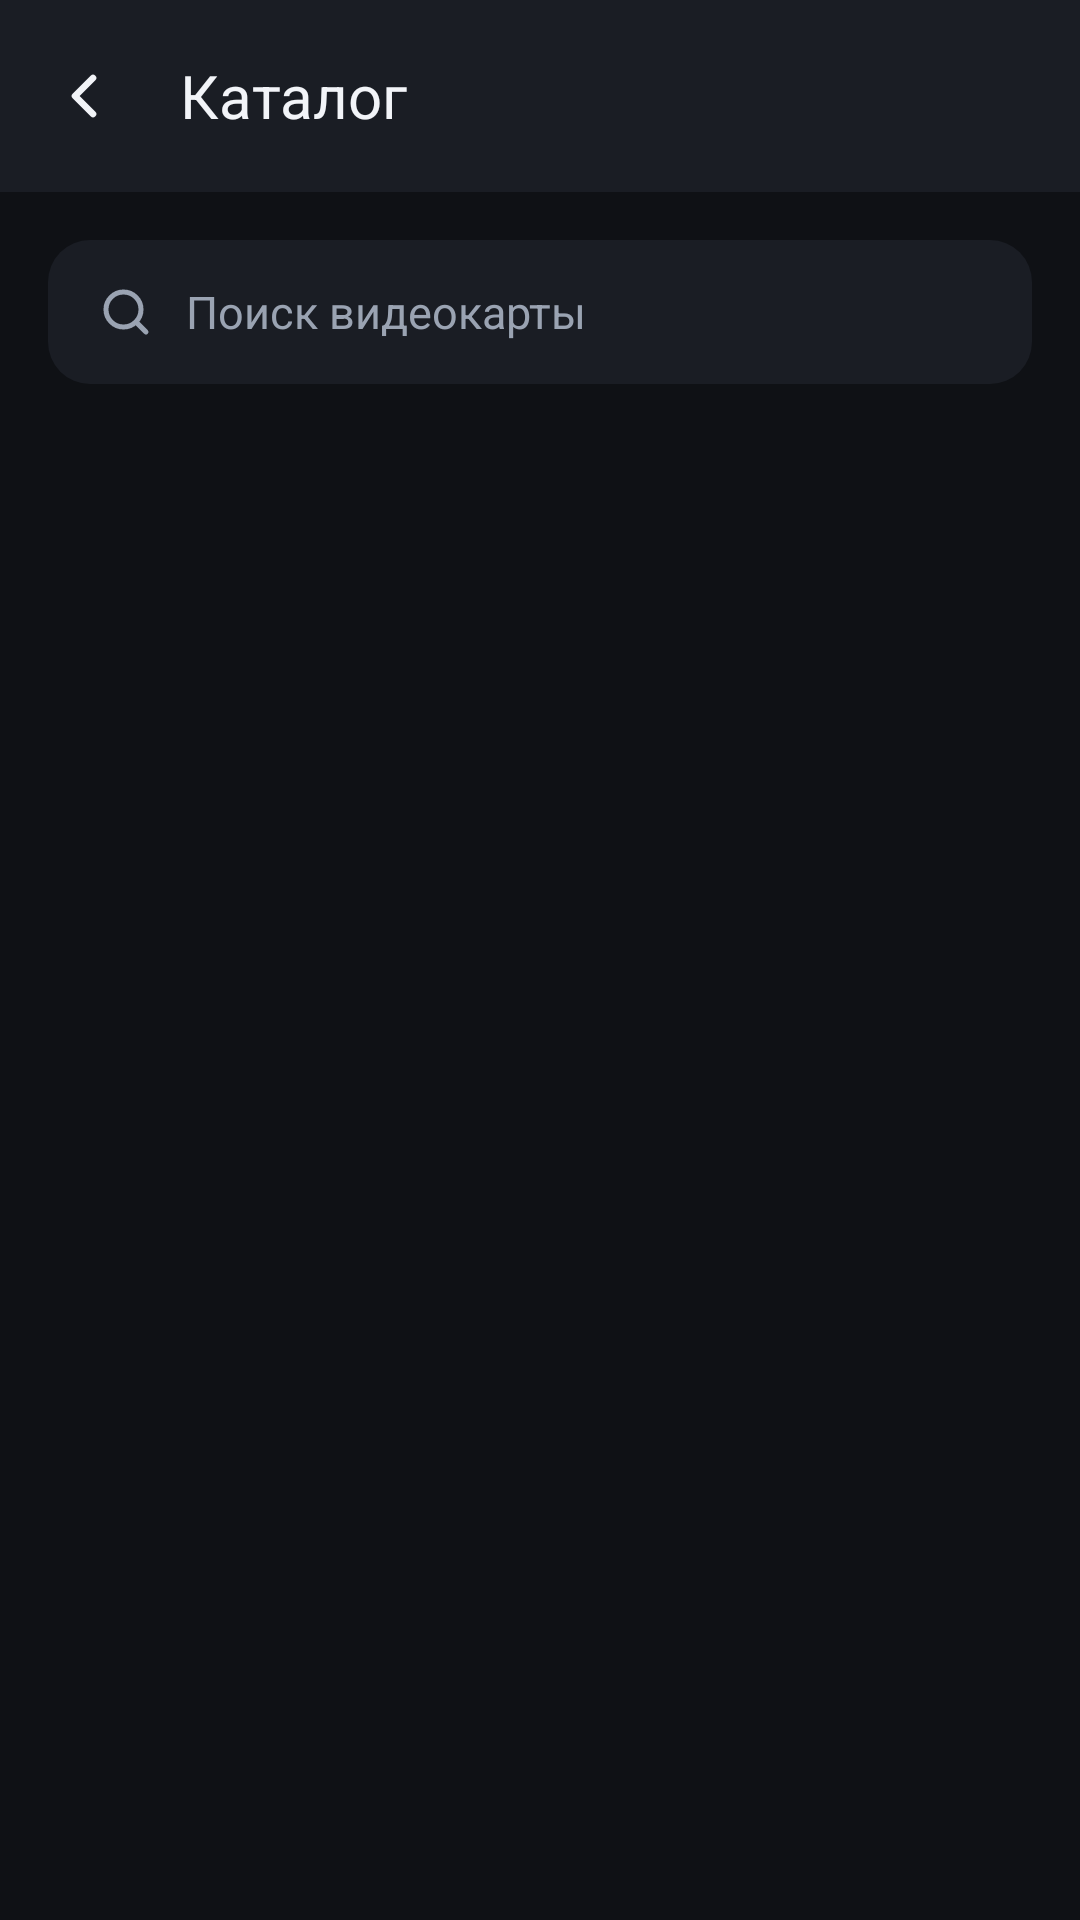

Screen size 1080×1920. Icon name, then its box in pixels as (x1, y1, x2, y2):
search: (103, 289, 149, 335)
